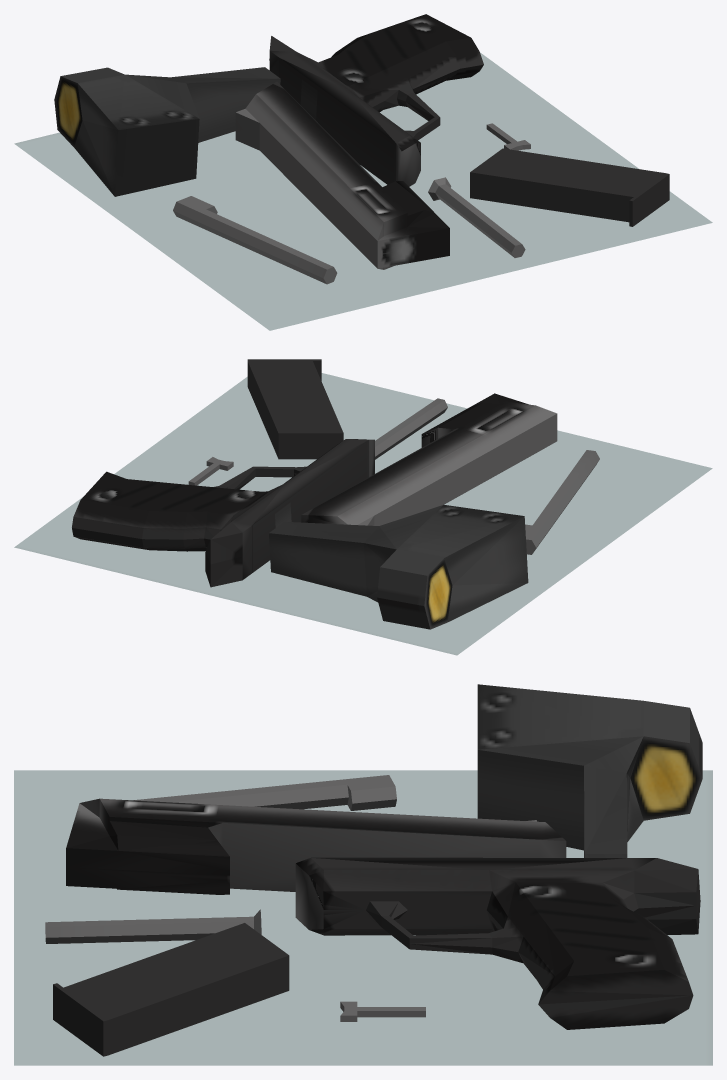
File: DisassembledGunPartsSmall.fbx
3 views of the same model, one above another, from view 1: azimuth 30°, elevation 25°; view 2: azimuth 150°, elevation 25°; view 3: azimuth 270°, elevation 25° (orthographic). The views are drawn at different scales.
Parts seen in each view (by area): view 1: Handgun02RedDot; view 2: Handgun02RedDot; view 3: Handgun02RedDot.
Boxes of the visible parts, x1=… form: Handgun02RedDot: x1=14, y1=14, x2=712, y2=330; Handgun02RedDot: x1=14, y1=359, x2=712, y2=655; Handgun02RedDot: x1=14, y1=684, x2=712, y2=1065.
Bounding box in the file's own units: 0.175 × 0.0272 × 0.175.
